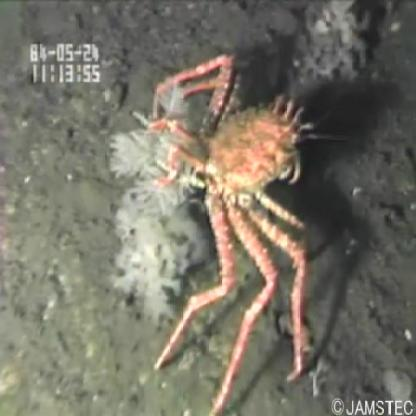Bio: (104, 49, 324, 416)
